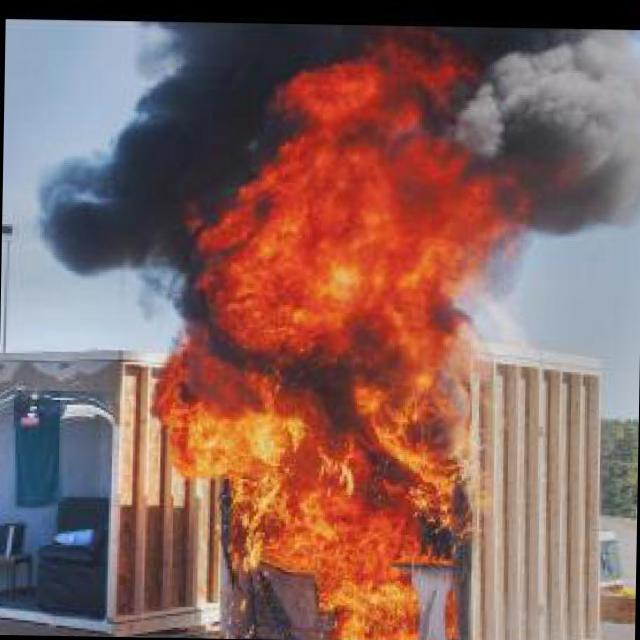fire: (152, 46, 496, 640)
smoke: (39, 30, 218, 266), (469, 24, 640, 248)
